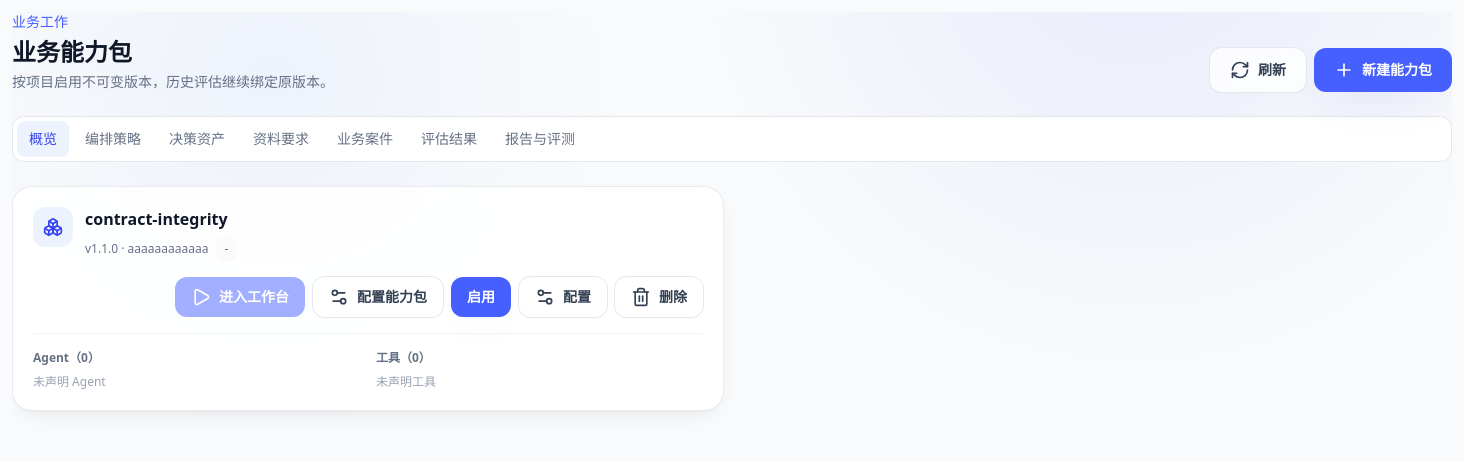
capability packs page › maps not-found delete failures to Chinese copy
Click the button with aria-label "删除 contract-integrity v1.1.0".
click(659, 297)  # box [615, 277, 703, 317]
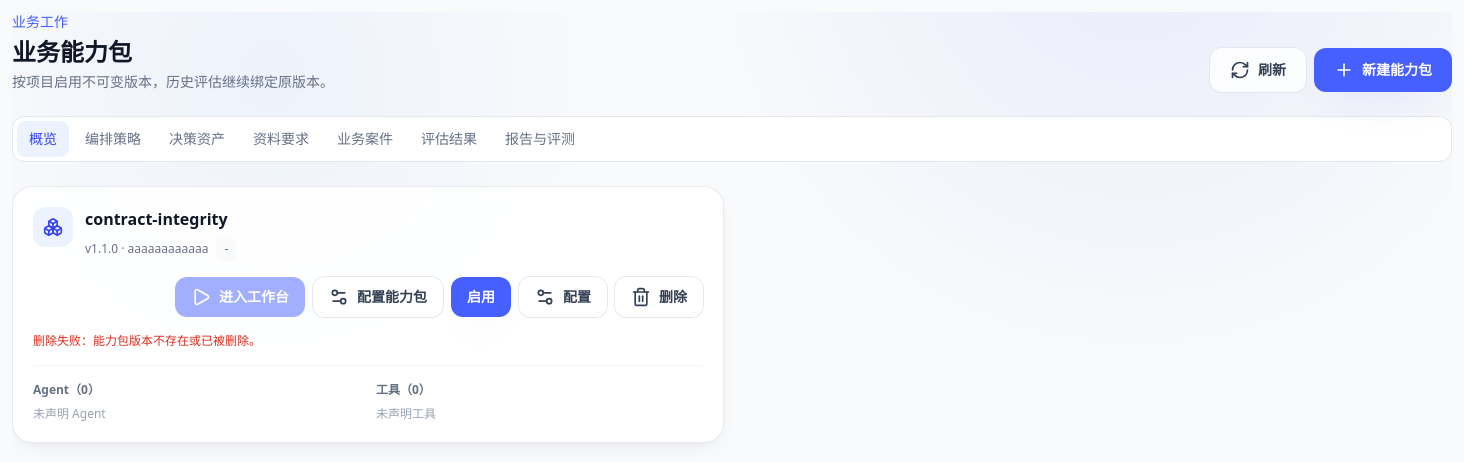
Expected: the message reads "删除失败：能力包版本不存在或已被删除。", [33, 332, 261, 349]
